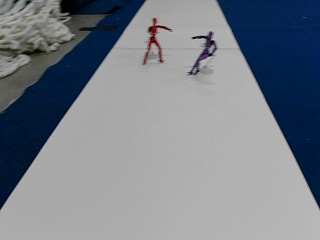pedestrian: (143, 18, 173, 64), (189, 30, 216, 74)
